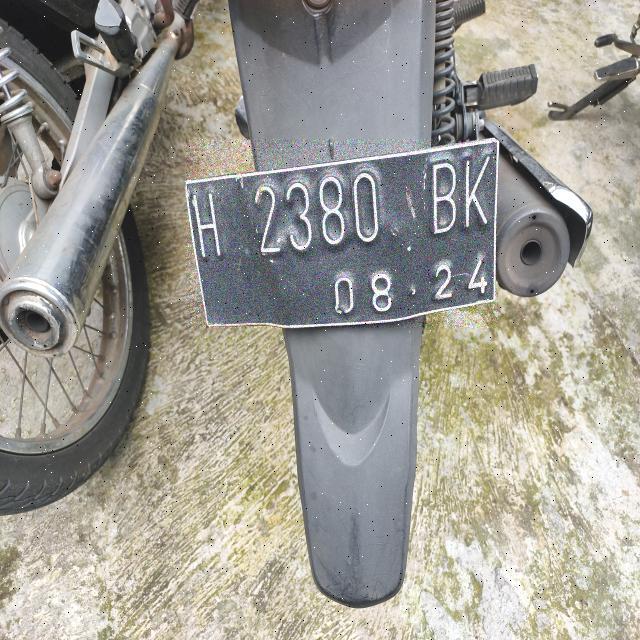plate: (187, 140, 497, 327)
